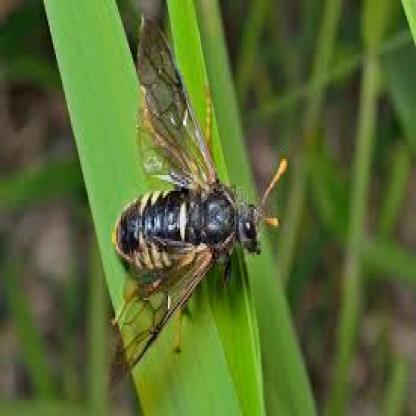sawfly: (106, 1, 289, 391)
